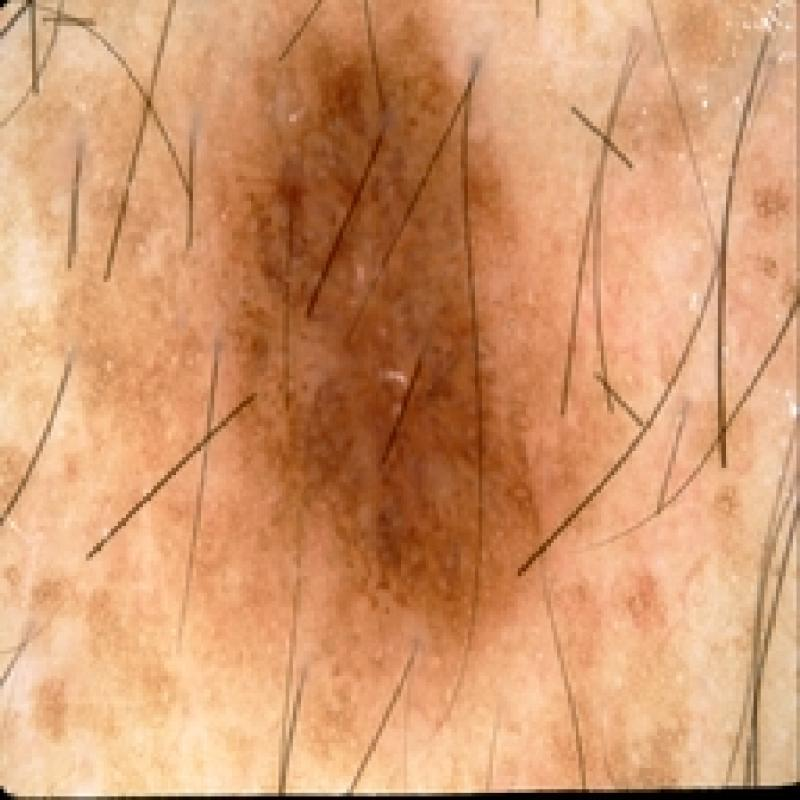malignant: (190, 19, 576, 646)
